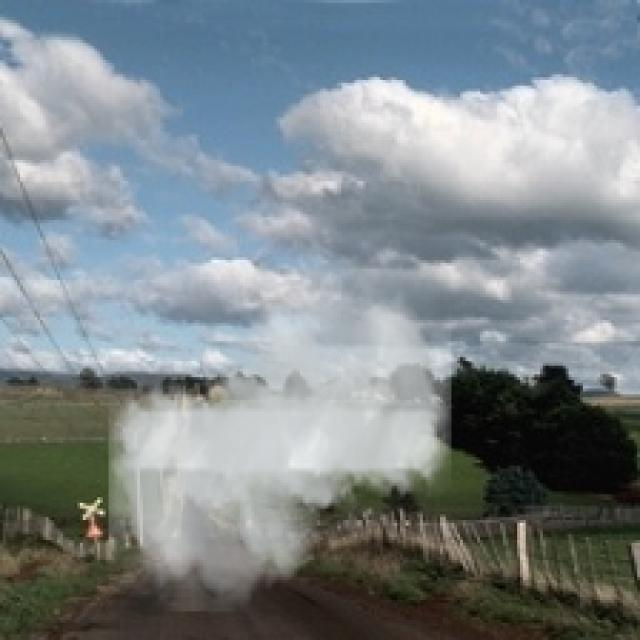smoke: (109, 268, 452, 612)
